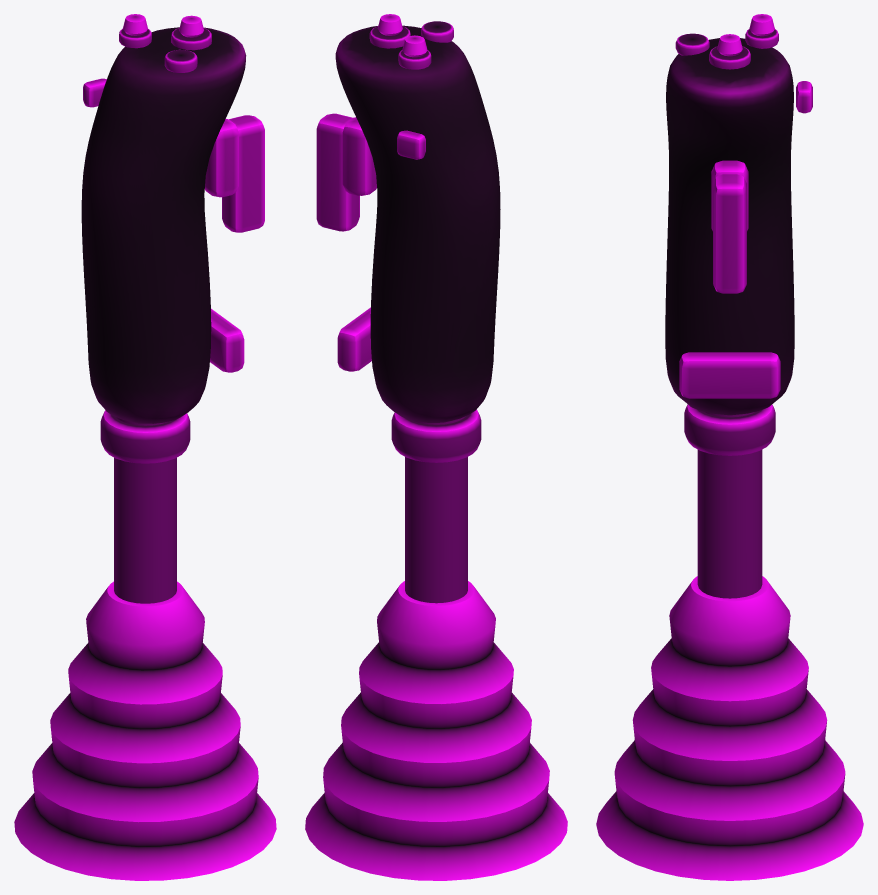
The model's file is ck_stick.fbx.
3 views of the same model, side by side, from view 1: azimuth 30°, elevation 25°; view 2: azimuth 150°, elevation 25°; view 3: azimuth 270°, elevation 25° (orthographic).
Visible parts, largest first — view 1: ck_stick; view 2: ck_stick; view 3: ck_stick.
Part boxes in pixels (x1,y1,x2,y2): ck_stick: (14,14,276,880); ck_stick: (305,14,567,880); ck_stick: (596,14,863,880).
Size of the model in its own units: 7.9 by 7.95 by 26.5.
